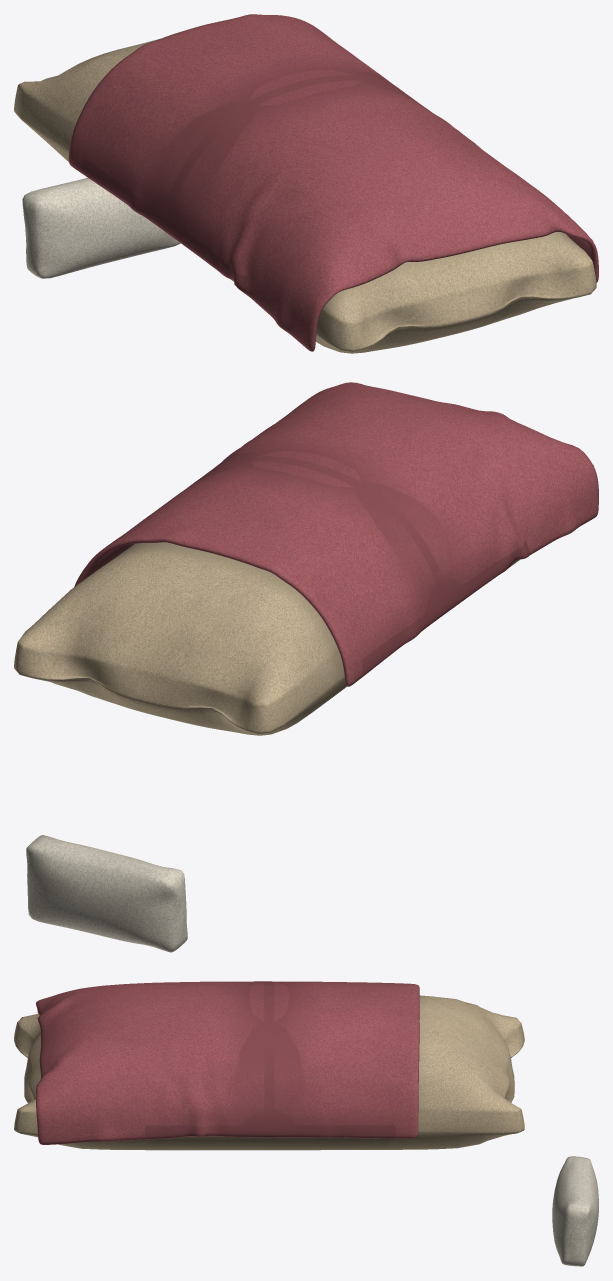
Rendered from futon_rose.glb.
The picture shows the model from 3 angles, top to bottom: view 1: azimuth 30°, elevation 25°; view 2: azimuth 150°, elevation 25°; view 3: azimuth 270°, elevation 25°; orthographic projection. The views are drawn at different scales.
Parts seen in each view (by area): view 1: futon_rose_kake, futon_rose_shiki, futon_rose_makura; view 2: futon_rose_kake, futon_rose_shiki, futon_rose_makura; view 3: futon_rose_kake, futon_rose_shiki, futon_rose_makura.
Boxes of the visible parts, box(x1,y1,x2,y2) form: futon_rose_kake: box(68, 14, 598, 351); futon_rose_shiki: box(14, 38, 596, 353); futon_rose_makura: box(22, 178, 180, 278); futon_rose_kake: box(74, 382, 598, 686); futon_rose_shiki: box(14, 465, 594, 735); futon_rose_makura: box(26, 835, 187, 952); futon_rose_kake: box(35, 981, 419, 1144); futon_rose_shiki: box(14, 995, 524, 1150); futon_rose_makura: box(552, 1156, 598, 1266).
Size of the model in its own units: 1.99 by 2.11 by 4.52.
3 materials, 3 textured.
